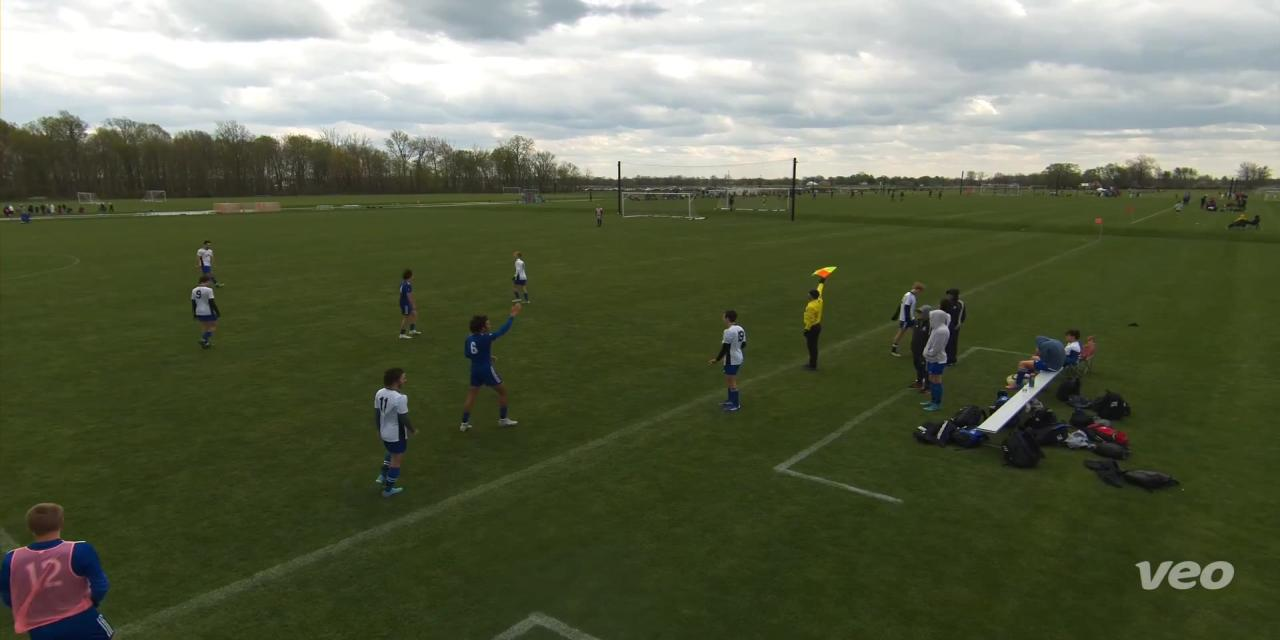goal: (617, 184, 714, 227)
